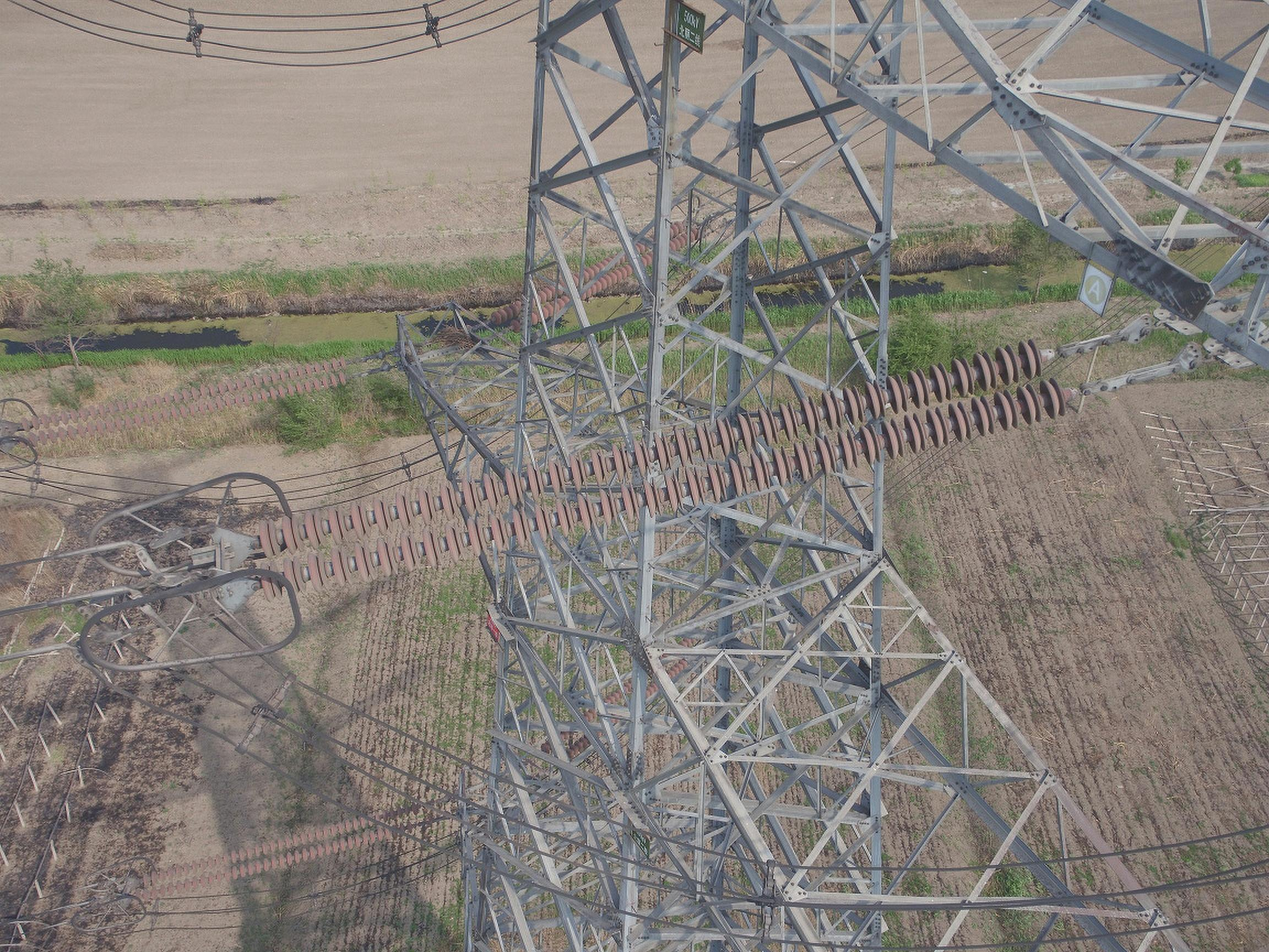insulator: (247, 331, 1075, 606), (19, 354, 349, 449), (133, 805, 394, 908), (489, 218, 703, 335), (539, 634, 698, 763)
